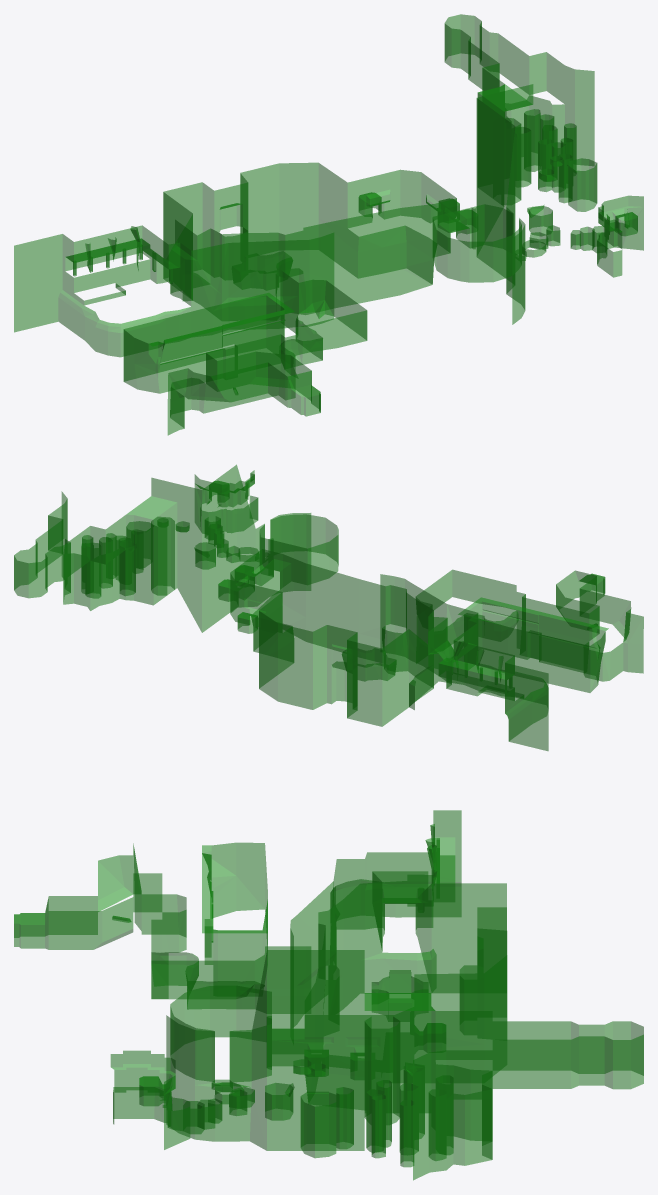
Rendered from wall.obj.
3 views of the same model, one above another, from view 1: azimuth 30°, elevation 25°; view 2: azimuth 150°, elevation 25°; view 3: azimuth 270°, elevation 25° (orthographic). The views are drawn at different scales.
Size of the model in its own units: 230 by 67.89 by 177.
